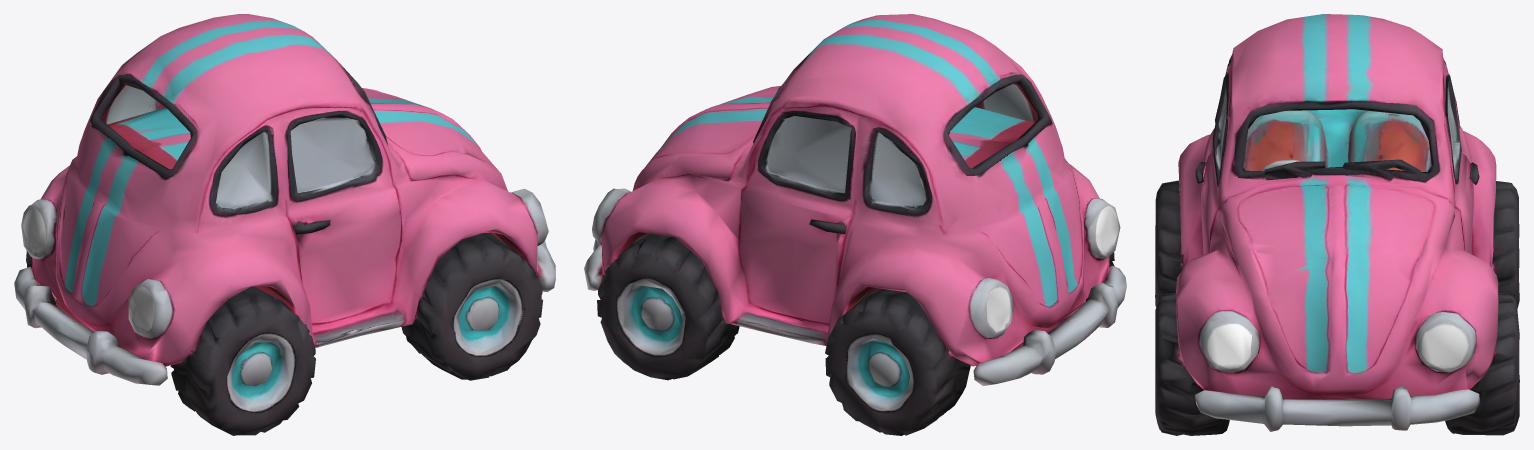
File: car_bubble.glb
3 renders of one model, left to right at view 1: azimuth 30°, elevation 25°; view 2: azimuth 150°, elevation 25°; view 3: azimuth 270°, elevation 25°, orthographic.
Parts seen in each view (by area): view 1: tripo_node_4ce52849-421c-45a5-8fd5-1f046231ac36; view 2: tripo_node_4ce52849-421c-45a5-8fd5-1f046231ac36; view 3: tripo_node_4ce52849-421c-45a5-8fd5-1f046231ac36.
Part boxes in pixels (x1,y1,x2,y2): tripo_node_4ce52849-421c-45a5-8fd5-1f046231ac36: [14, 14, 555, 435]; tripo_node_4ce52849-421c-45a5-8fd5-1f046231ac36: [584, 14, 1126, 435]; tripo_node_4ce52849-421c-45a5-8fd5-1f046231ac36: [1155, 14, 1519, 435].
Size of the model in its own units: 1 by 0.6679 by 0.69.
1 material, 1 textured.
